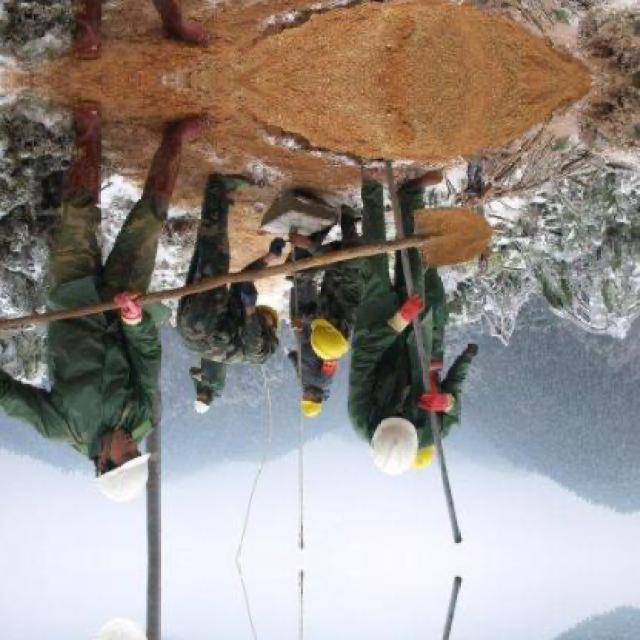con casco: (33, 414, 172, 514), (351, 436, 435, 480), (308, 350, 353, 390)
